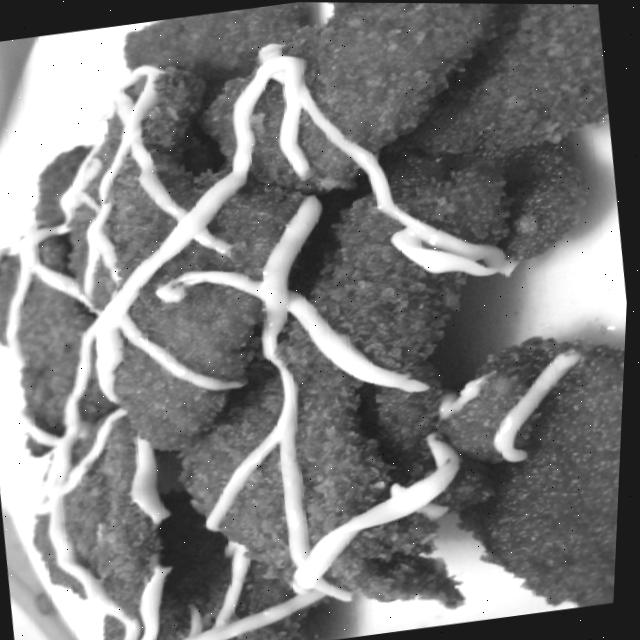炸货点心: (0, 37, 639, 640)
熟制海鲜: (0, 37, 639, 640)
